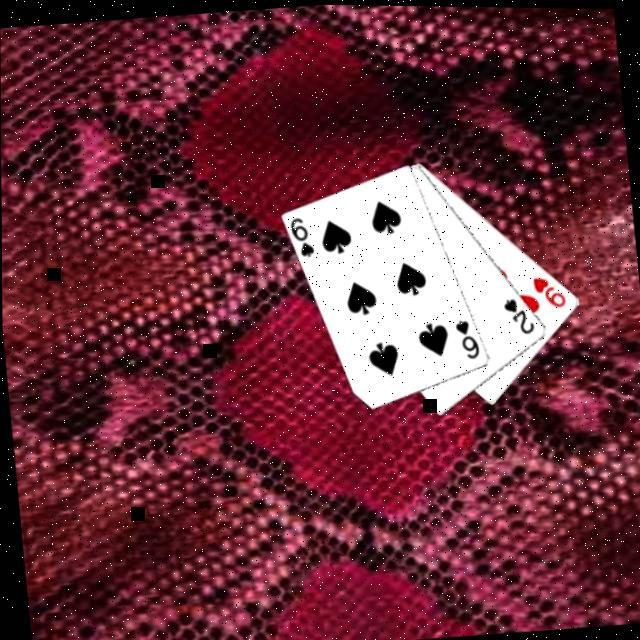2S: (498, 292, 537, 337)
6S: (449, 314, 481, 362), (285, 213, 317, 261)
9H: (529, 271, 569, 311)
